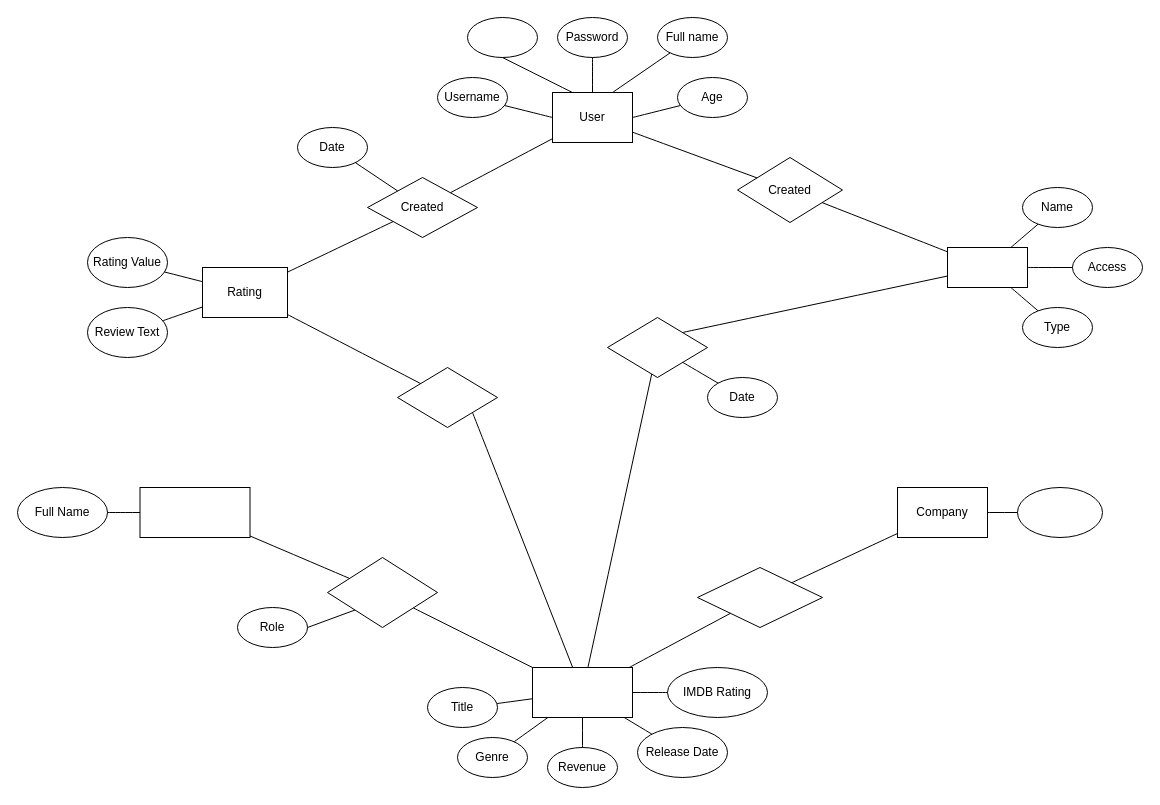
This 1160x805 diagram has some shape labels left out. Here are the shapes that lost their labels. From the top down, the centre of each, then its label:
the point at 502,37: Email
the point at 987,267: Lists
the point at 657,347: Contains
the point at 447,397: For
the point at 194,512: Cast & Crew
the point at 1059,512: Legal Name
the point at 382,592: Participiated
the point at 759,597: Produced
the point at 582,692: Movie / Series
